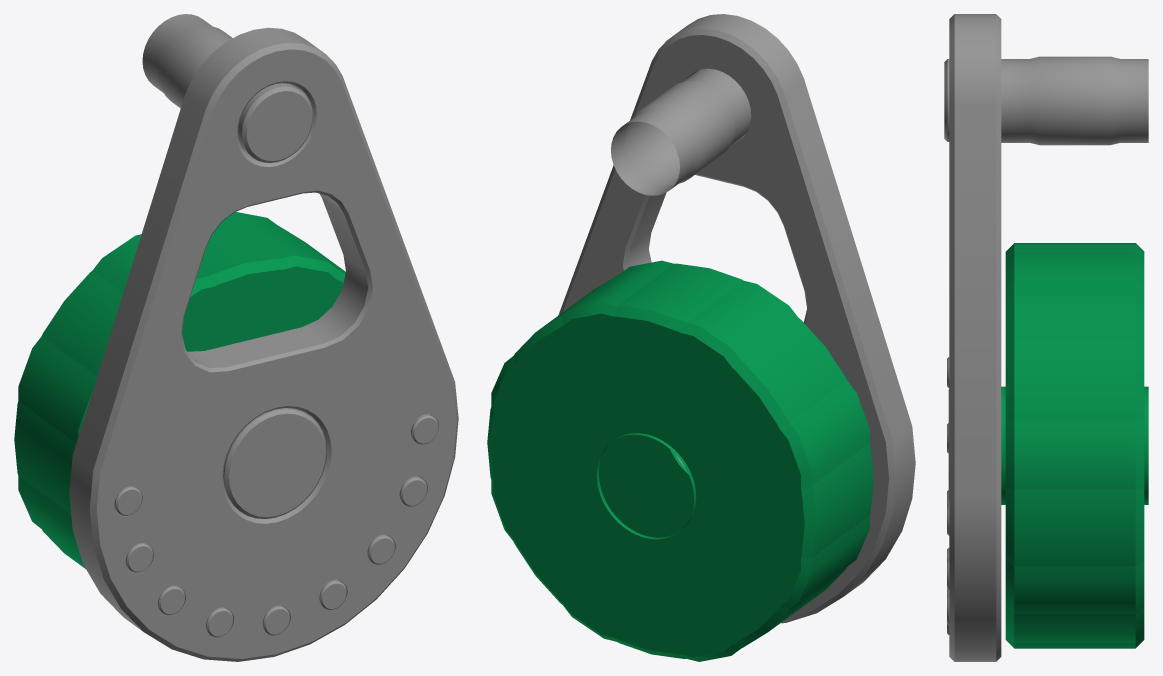
Rendered from CodeLockAssembler.FBX.
3 views of the same model, side by side, from view 1: azimuth 30°, elevation 25°; view 2: azimuth 150°, elevation 25°; view 3: azimuth 270°, elevation 25° (orthographic). The views are drawn at different scales.
Parts seen in each view (by area): view 1: Housing, WordsDrum, NumbersDrum, Pin; view 2: NumbersDrum, Housing, WordsDrum, Pin; view 3: Housing, NumbersDrum, WordsDrum, Pin.
Boxes of the visible parts, left/top/right/bottom form: Housing: left=69, top=27, right=458, bottom=661; WordsDrum: left=18, top=212, right=342, bottom=557; NumbersDrum: left=14, top=219, right=345, bottom=568; Pin: left=142, top=14, right=232, bottom=108; NumbersDrum: left=487, top=263, right=873, bottom=658; Housing: left=558, top=14, right=915, bottom=623; WordsDrum: left=491, top=260, right=869, bottom=661; Pin: left=611, top=70, right=749, bottom=195; Housing: left=944, top=14, right=1001, bottom=661; NumbersDrum: left=1001, top=251, right=1148, bottom=642; WordsDrum: left=1001, top=243, right=1148, bottom=648; Pin: left=1001, top=56, right=1148, bottom=145.
Size of the model in its own units: 24.89 by 39.45 by 11.8.
